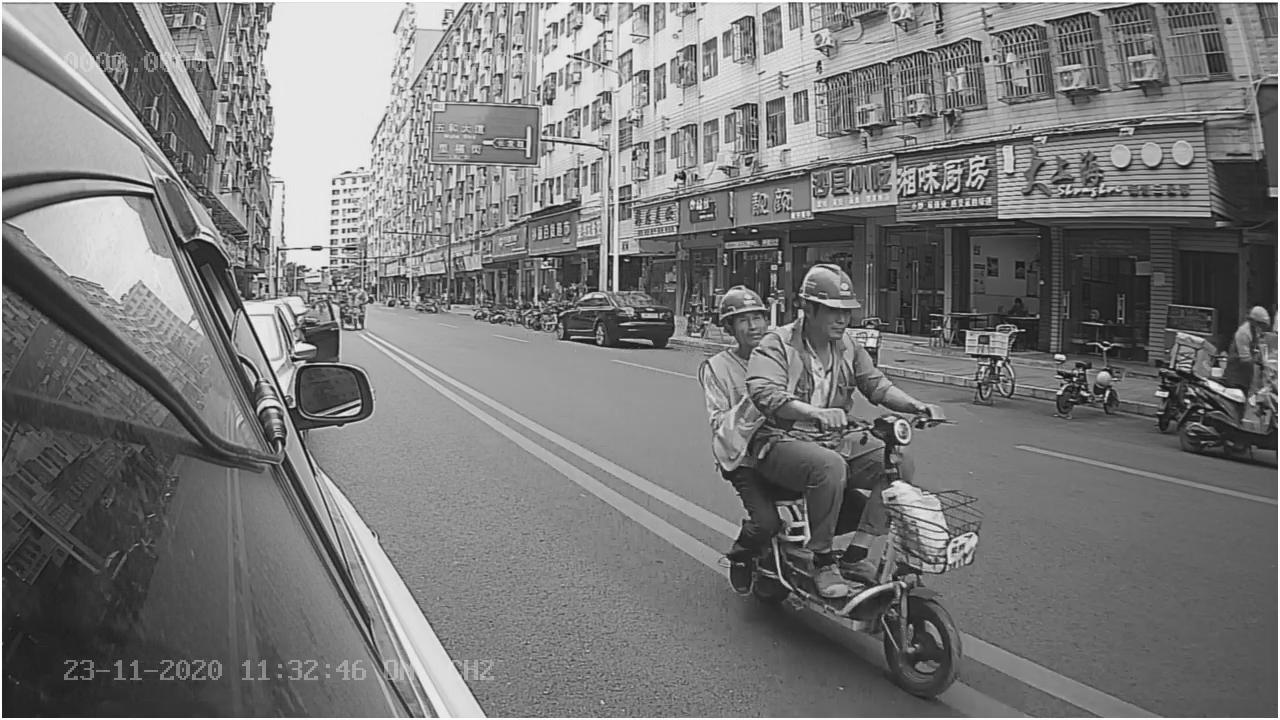person: (749, 256, 924, 428)
